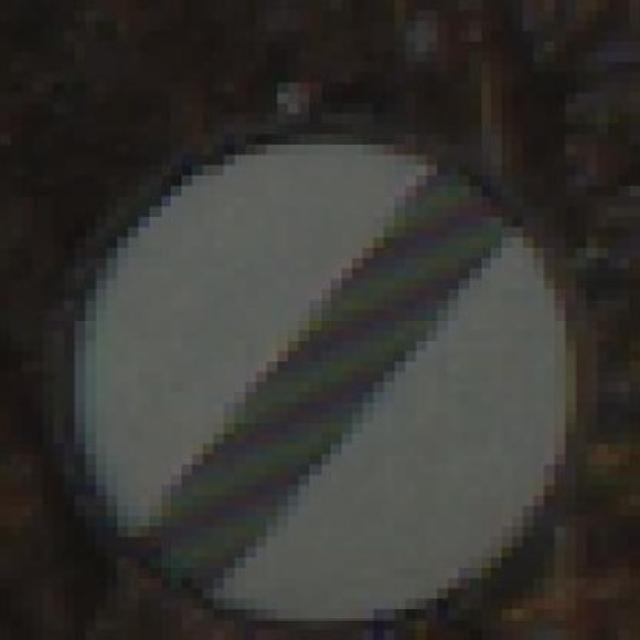End of all speed and passing limits: (31, 103, 587, 629)
